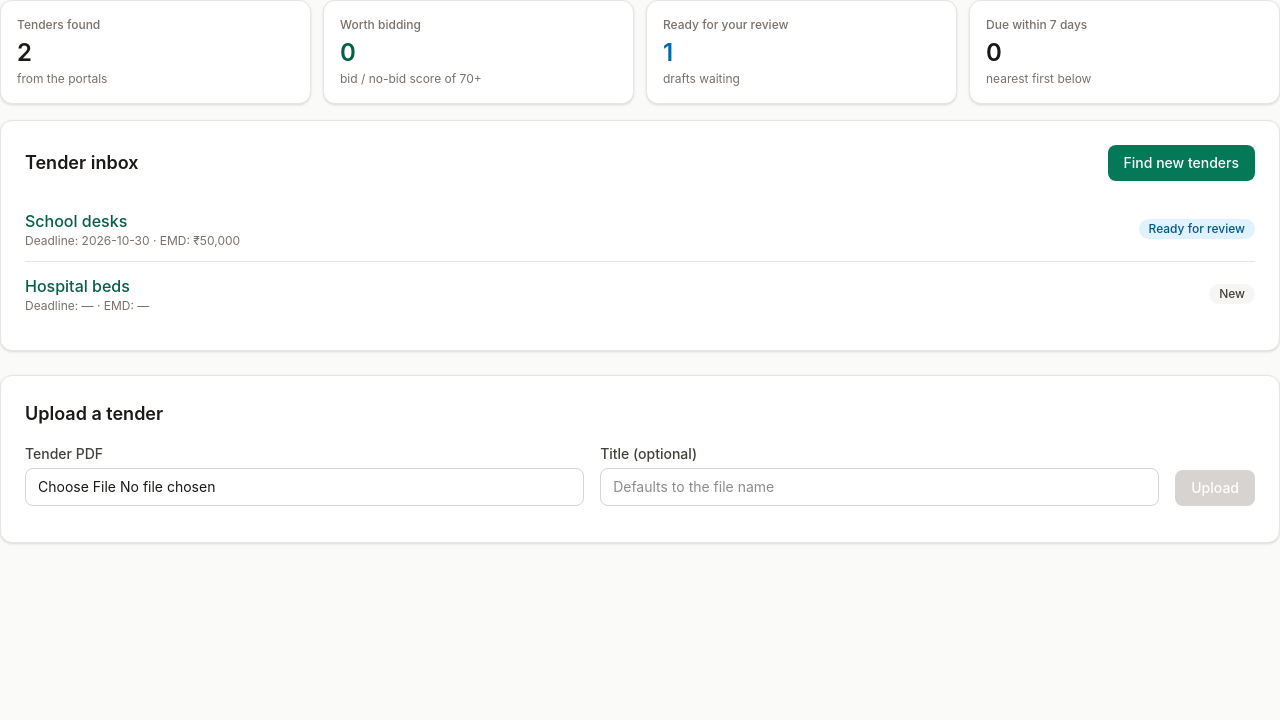
the Scout button sweeps the portals and reports what it found
Click the button "Find new tenders" at [1181, 163], box [1108, 145, 1255, 181]
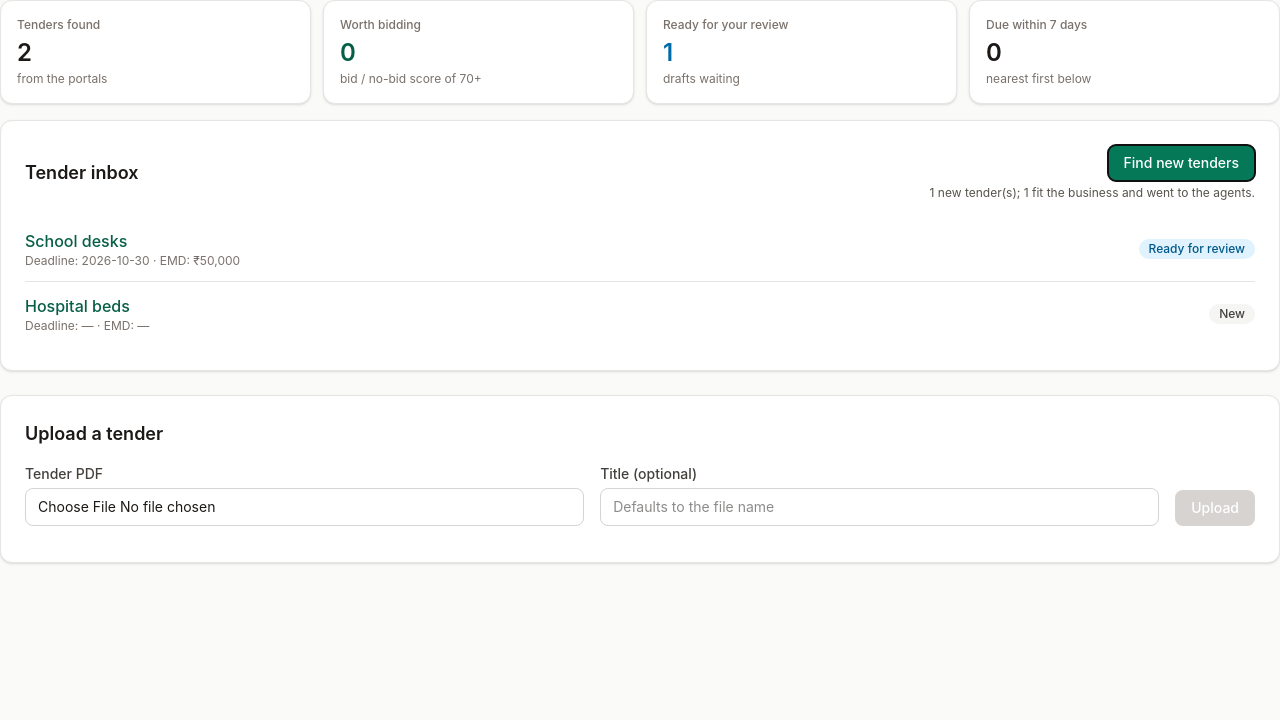
Expected: the text "1 new tender(s); 1 fit the business and went to the agents." is shown, [930, 185, 1255, 201]
